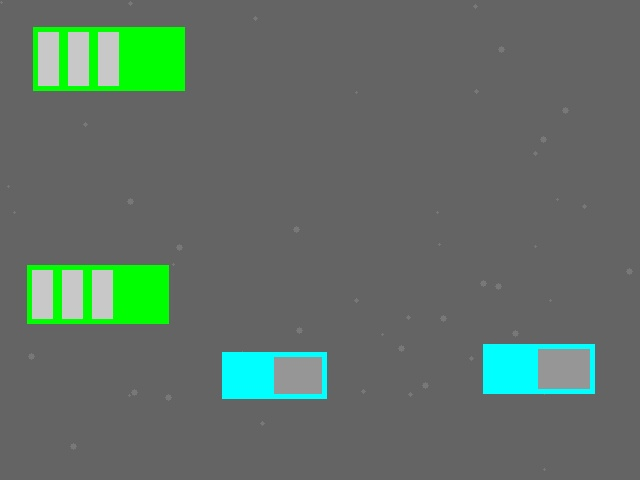bus: (33, 27, 184, 90), (27, 265, 168, 323)
truck: (483, 344, 594, 393), (222, 352, 326, 398)
